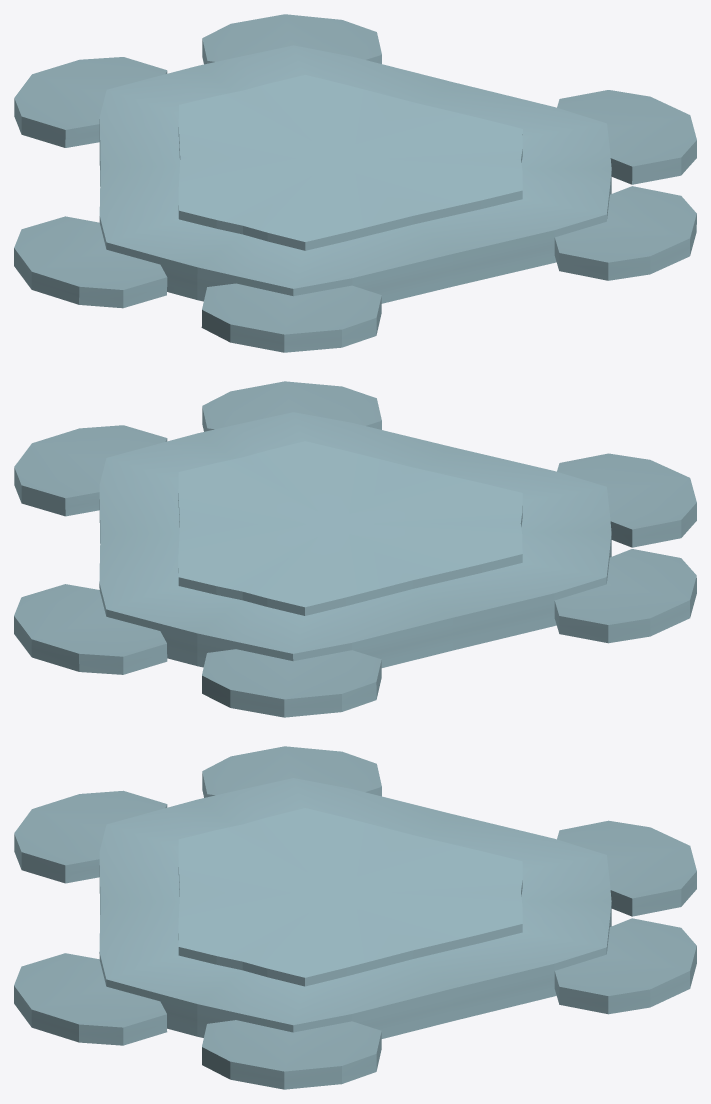
The model's file is geology-crystals-snowflake_v1.glb.
3 renders of one model, top to bottom at view 1: azimuth 30°, elevation 25°; view 2: azimuth 150°, elevation 25°; view 3: azimuth 270°, elevation 25°, orthographic.
Parts seen in each view (by area): view 1: Snowflake_v1; view 2: Snowflake_v1; view 3: Snowflake_v1.
Boxes of the visible parts, x1,y1,x2,y2 form: Snowflake_v1: (14,14,696,352); Snowflake_v1: (14,381,696,717); Snowflake_v1: (14,746,696,1089).
Bounding box in the file's own units: 5.55 × 0.4212 × 4.98.
